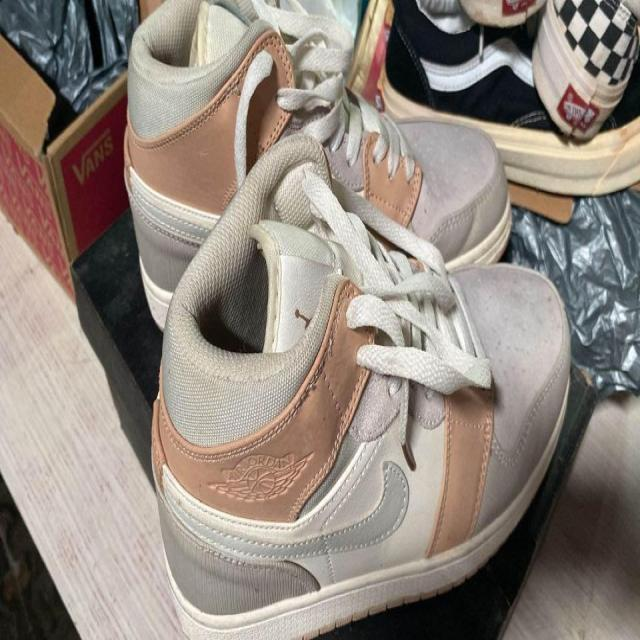nike fake jordan 1: (148, 127, 574, 640), (121, 0, 512, 340)
